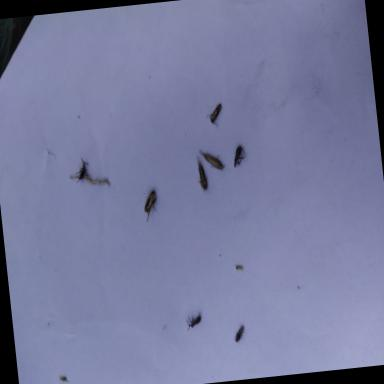pbw: (198, 148, 225, 172), (142, 191, 160, 223), (204, 102, 224, 130), (195, 154, 208, 194)
